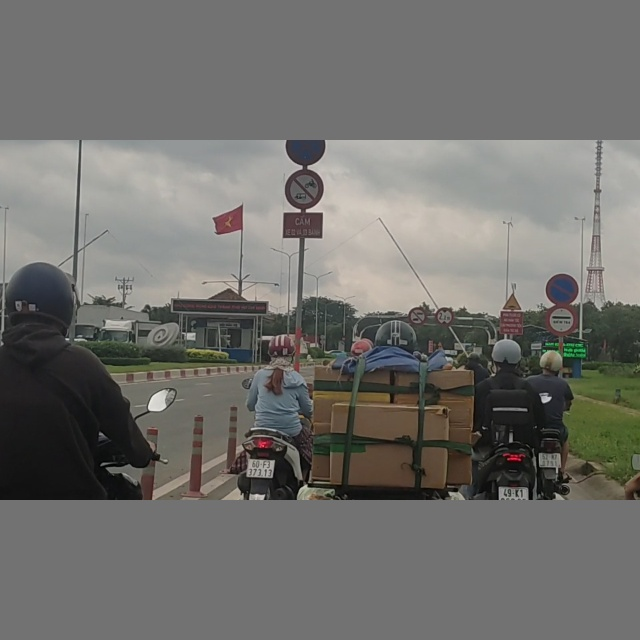P.107: (409, 307, 427, 325)
P.111: (286, 169, 324, 209)
P.117*: (435, 307, 454, 325)
P.129: (547, 306, 579, 337)
P.130: (286, 141, 327, 165)
P.131a: (547, 274, 579, 304)
W.221b: (503, 293, 522, 311)
